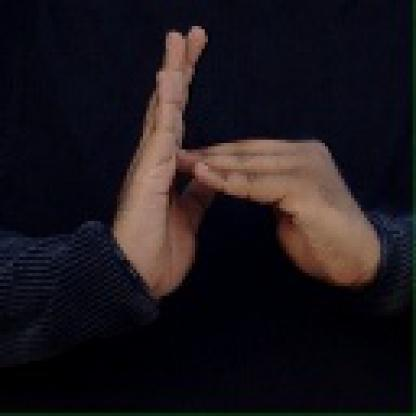Z: (110, 27, 362, 298)
